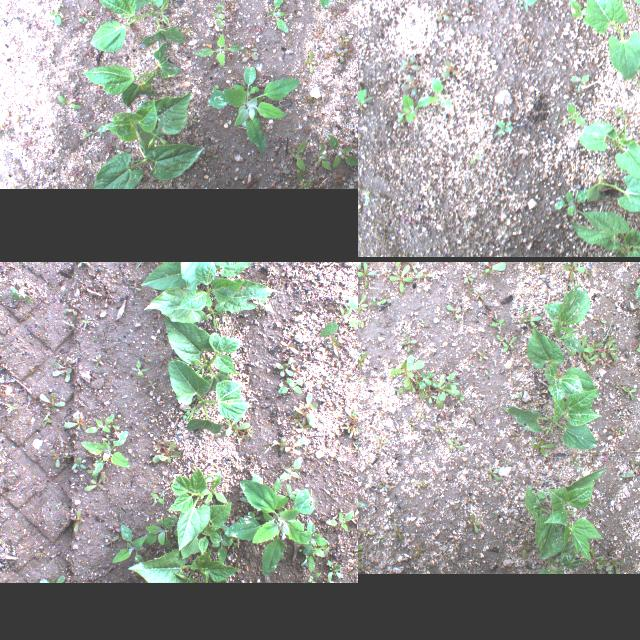crop: (92, 90, 204, 188), (524, 467, 606, 565), (81, 41, 181, 108), (144, 278, 276, 328), (500, 386, 604, 448), (168, 355, 248, 431), (526, 327, 600, 405), (164, 318, 240, 390), (172, 468, 230, 556), (90, 0, 188, 51), (586, 0, 640, 80), (127, 548, 241, 582), (141, 262, 258, 294), (578, 120, 640, 179), (542, 284, 590, 352), (572, 209, 640, 256), (587, 164, 640, 212), (538, 537, 588, 573)
weed: (226, 480, 314, 578), (208, 66, 300, 154), (80, 430, 132, 472), (194, 32, 244, 68), (389, 353, 433, 392), (319, 293, 358, 334), (111, 523, 145, 563), (425, 372, 461, 408), (398, 95, 440, 124), (141, 514, 175, 548), (299, 518, 329, 556), (327, 135, 358, 167), (554, 189, 590, 215), (210, 530, 238, 562), (199, 472, 227, 502), (294, 392, 318, 426), (267, 0, 290, 34), (586, 336, 618, 359), (429, 78, 451, 109), (278, 454, 302, 482), (152, 441, 182, 463), (568, 0, 592, 26), (390, 264, 412, 292), (566, 332, 594, 353), (564, 100, 586, 126), (358, 88, 376, 119), (328, 511, 354, 532), (290, 139, 306, 173), (316, 144, 336, 170), (588, 547, 608, 573), (86, 413, 114, 431), (51, 358, 71, 382), (226, 419, 254, 435), (284, 436, 308, 454), (532, 439, 556, 457), (211, 0, 226, 28), (398, 55, 424, 71), (278, 376, 304, 392), (440, 57, 460, 77), (274, 356, 294, 376), (58, 94, 82, 110), (399, 74, 417, 95), (563, 262, 584, 279), (326, 559, 342, 581), (328, 334, 344, 356), (363, 262, 376, 288), (11, 286, 35, 300), (571, 74, 589, 92), (482, 262, 505, 276), (49, 6, 65, 26), (84, 475, 104, 491), (305, 560, 321, 580), (304, 50, 316, 74), (336, 30, 354, 46), (296, 172, 314, 188), (286, 482, 302, 500), (445, 304, 461, 322), (502, 334, 518, 352), (38, 394, 66, 404), (468, 513, 482, 533), (402, 332, 416, 352), (415, 270, 435, 284), (522, 312, 542, 326), (71, 510, 83, 532), (64, 417, 86, 429), (514, 0, 540, 10), (583, 348, 599, 364), (335, 46, 349, 64), (496, 120, 514, 134), (433, 6, 451, 20), (136, 360, 150, 378), (606, 559, 624, 573), (631, 331, 640, 358), (444, 438, 464, 450), (242, 48, 258, 62), (488, 465, 502, 481), (90, 352, 104, 366), (622, 385, 636, 399), (42, 574, 66, 582), (358, 293, 368, 312), (345, 407, 358, 420), (72, 457, 86, 469), (274, 436, 286, 450), (462, 270, 476, 282), (51, 450, 61, 466), (104, 535, 120, 545), (128, 281, 144, 291), (150, 492, 164, 503), (372, 297, 391, 305), (614, 106, 626, 118), (66, 304, 80, 314), (264, 442, 278, 452), (424, 393, 438, 403), (358, 262, 364, 284), (362, 189, 370, 205), (497, 334, 507, 346), (478, 348, 488, 360), (358, 499, 367, 511), (470, 155, 480, 165), (106, 418, 116, 428), (6, 402, 18, 410), (492, 318, 504, 326), (82, 129, 90, 139), (16, 115, 24, 125), (346, 422, 354, 432), (358, 317, 365, 327), (80, 16, 88, 24), (394, 262, 408, 266), (76, 262, 86, 267), (355, 516, 358, 532), (354, 439, 358, 450), (81, 319, 91, 323)
